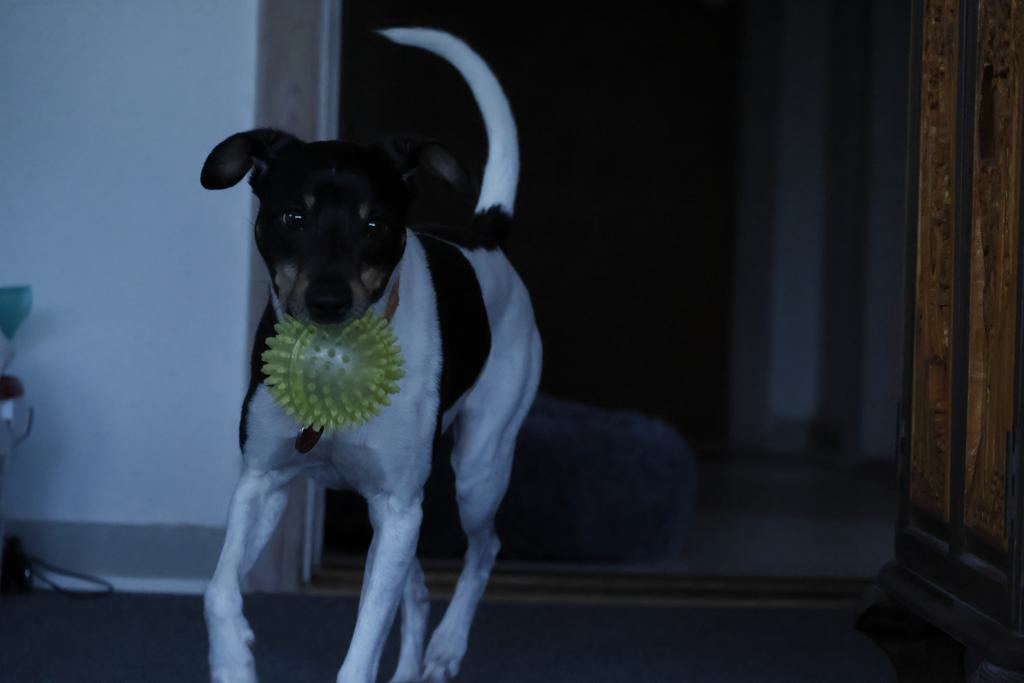Dog: (188, 25, 552, 683)
